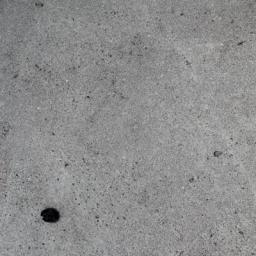FOD: (40, 204, 63, 227)
